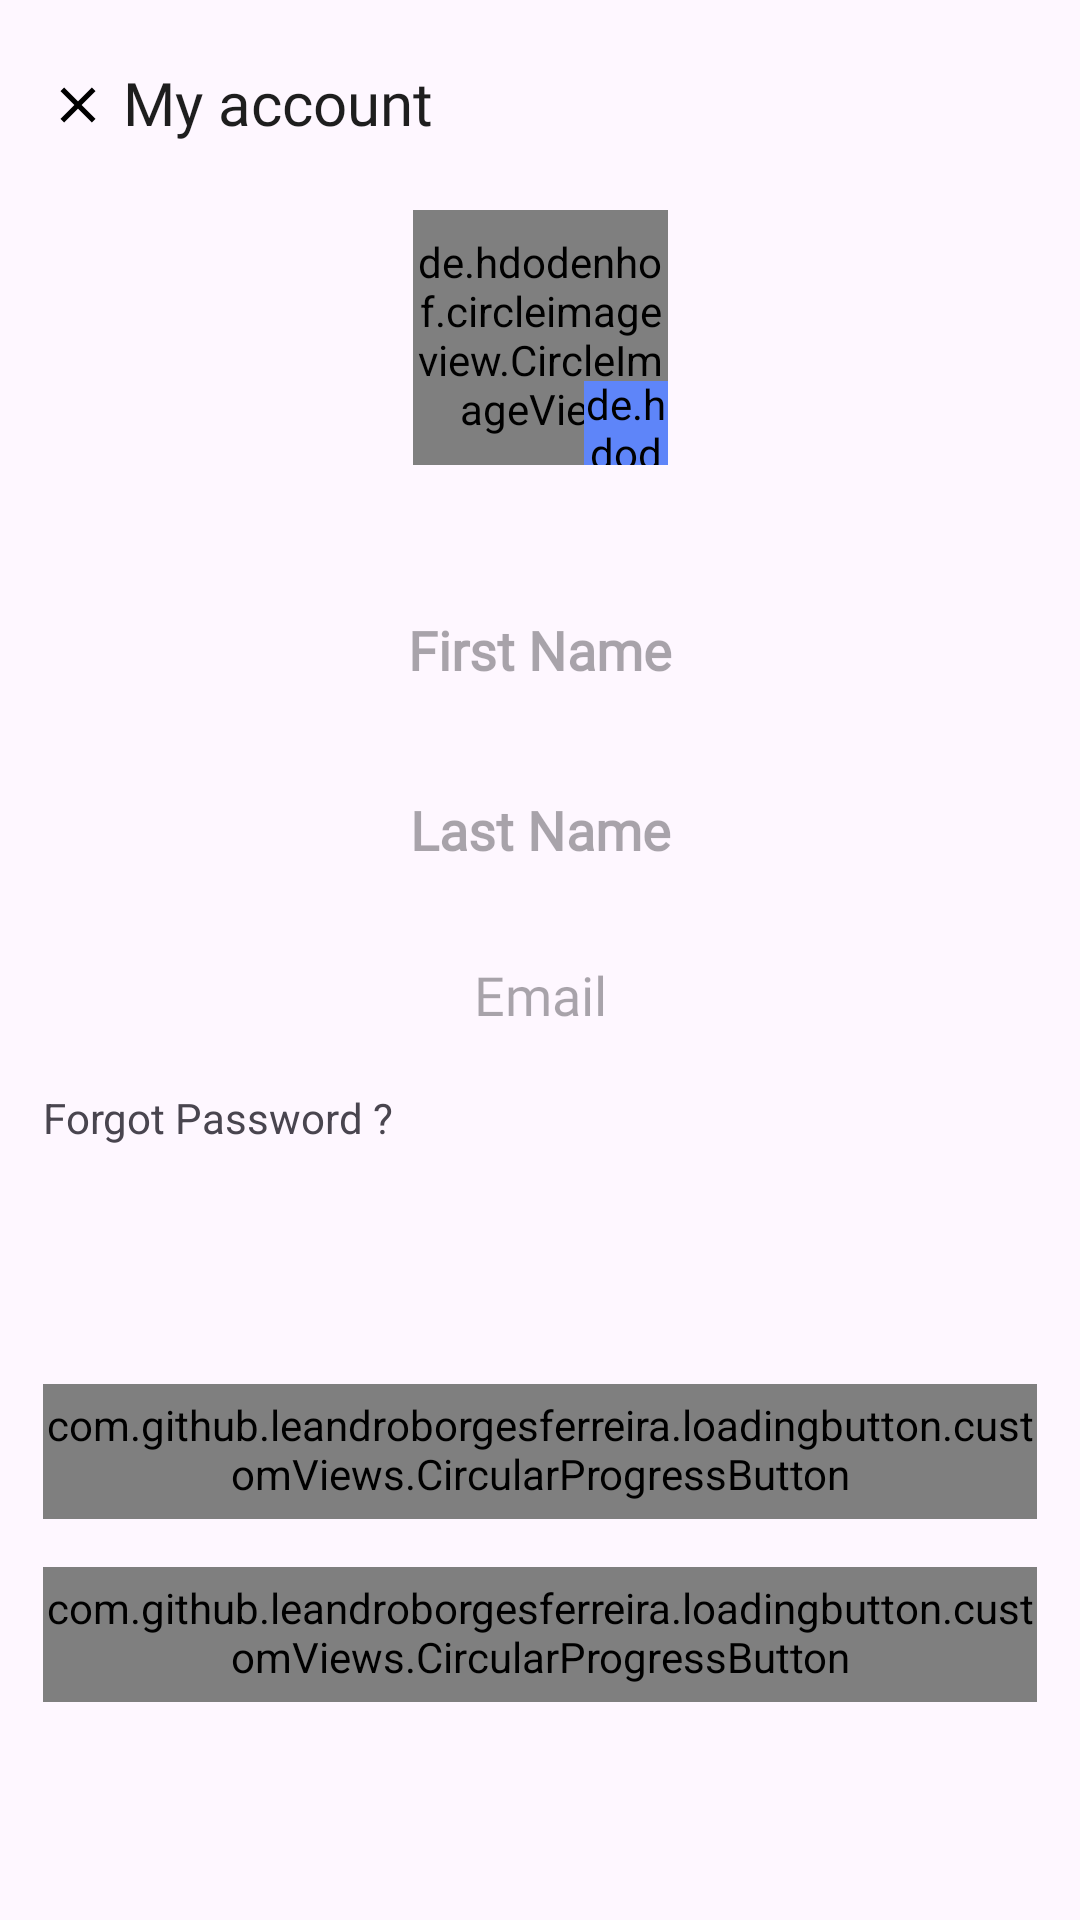

Named icons in this screenshot (1080*1920) and their bounding boxes, (x1, y1, x2, y2):
close: (60, 87, 96, 123)
